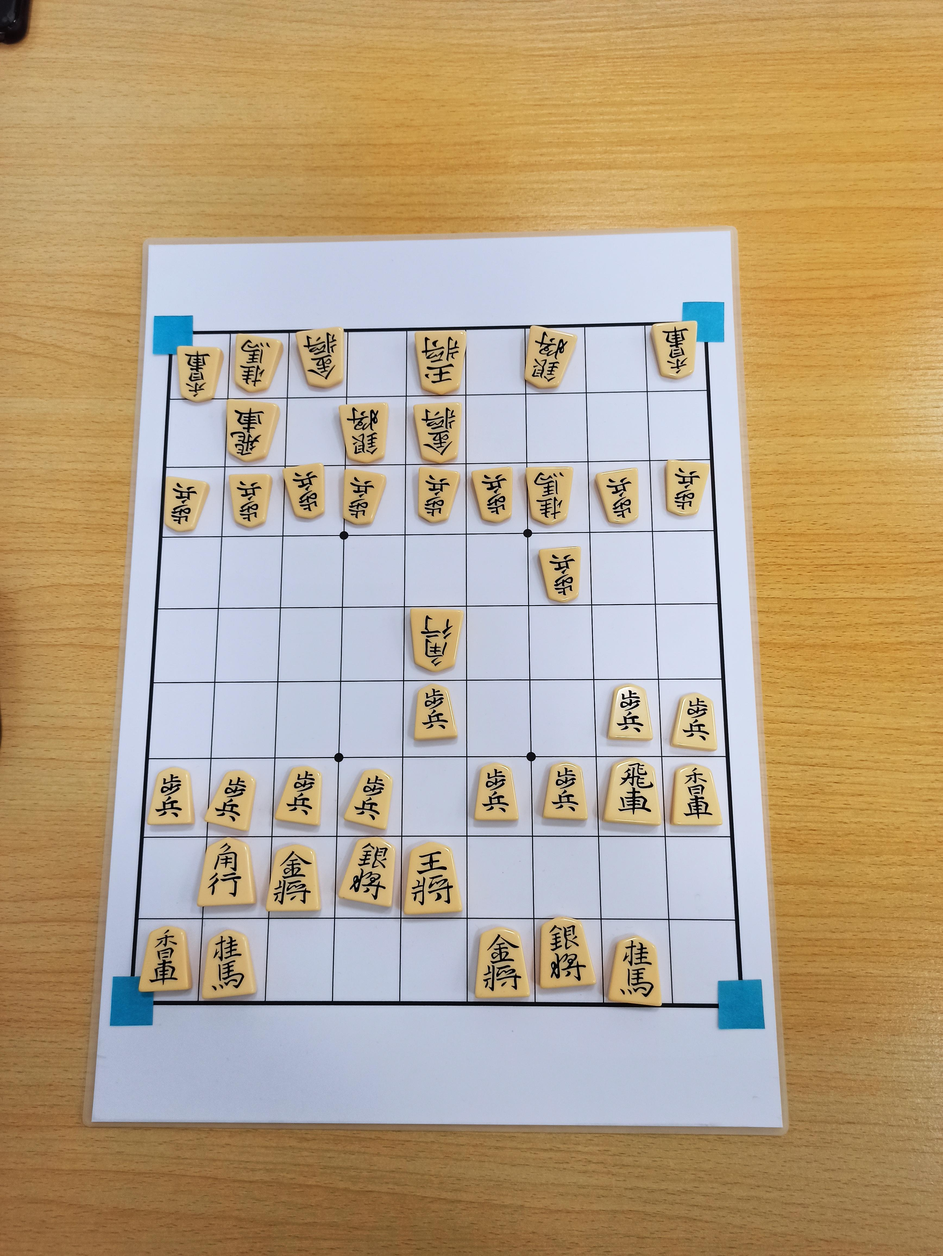board: (131, 324, 743, 1008)
